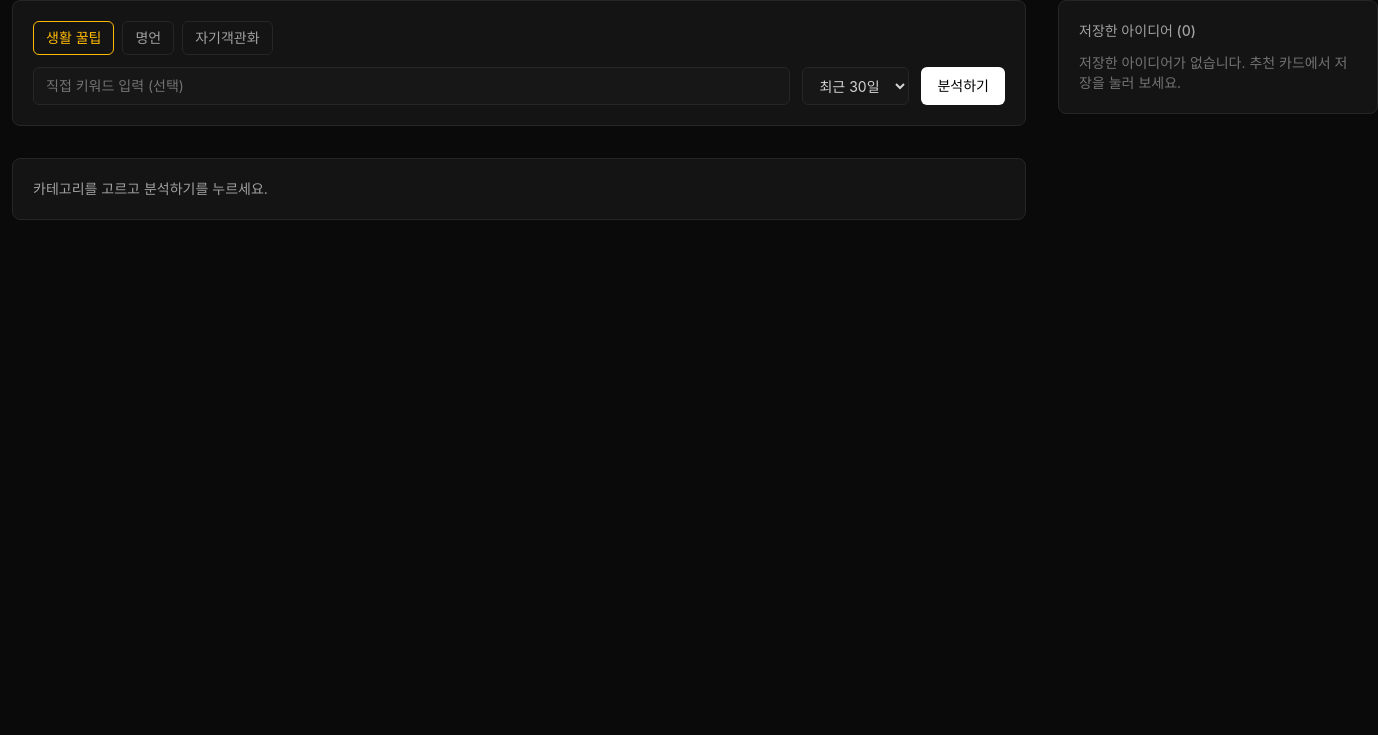
it: Dashboard › 경쟁 상태 › 먼저 보낸 요청이 늦게 도착해도 마지막 요청 결과만 표시한다
What coordinates should you click on to do the following:
click the button "분석하기"
I would click on:
 (963, 86)
Its box is x1=922 y1=67 x2=1005 y2=105.
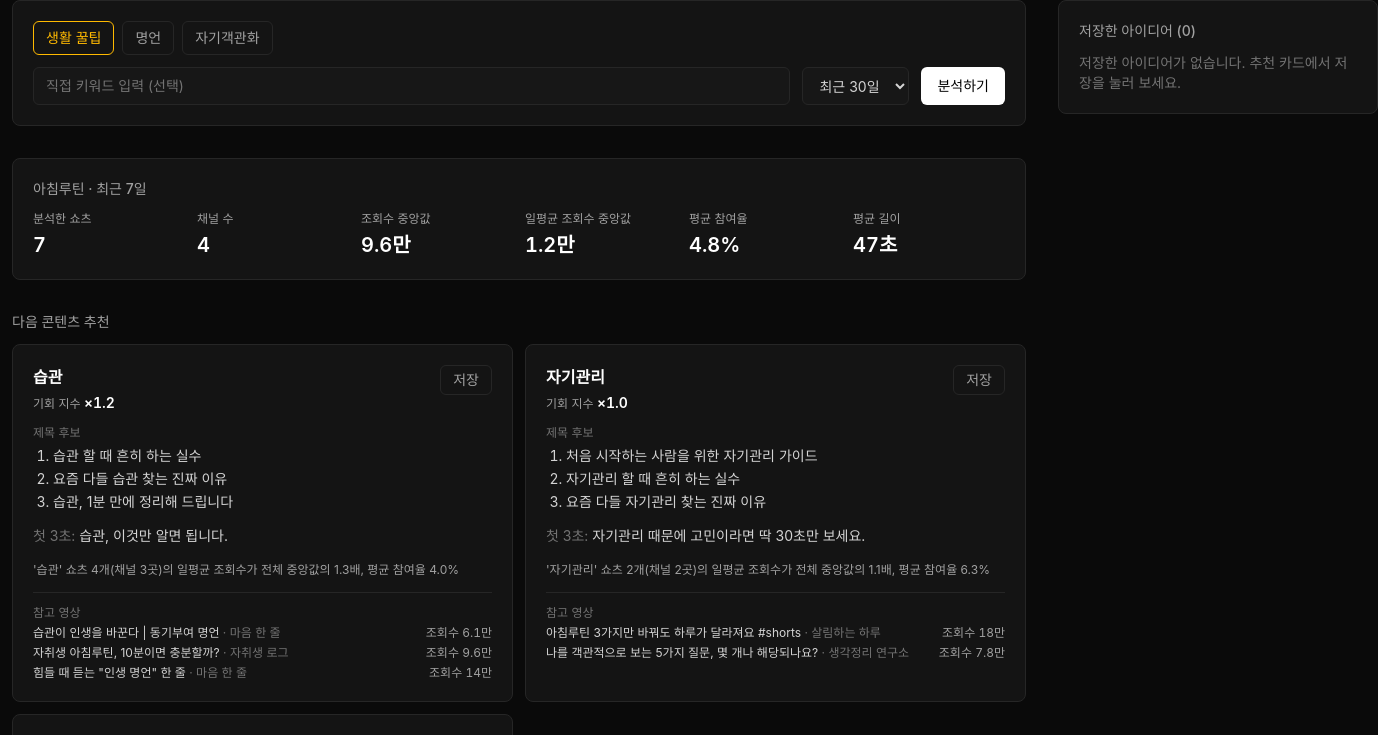
expect the heading "아침루틴 · 최근 7일" is shown: met, box x1=33 y1=180 x2=147 y2=197
